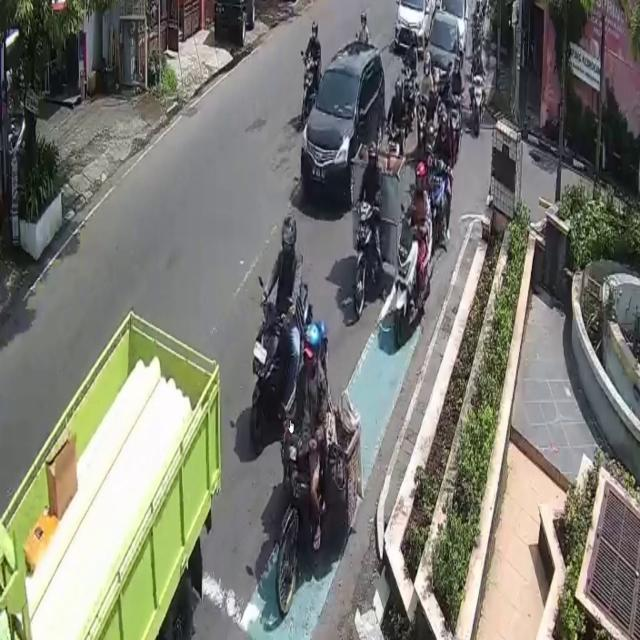bus: (249, 280, 310, 460), (274, 432, 325, 613), (394, 218, 430, 346), (356, 200, 382, 314), (431, 157, 453, 248), (301, 55, 320, 122), (470, 77, 484, 132)
motorcycle: (299, 42, 386, 212), (426, 11, 461, 98), (395, 1, 433, 56)
truck: (0, 307, 222, 640)
